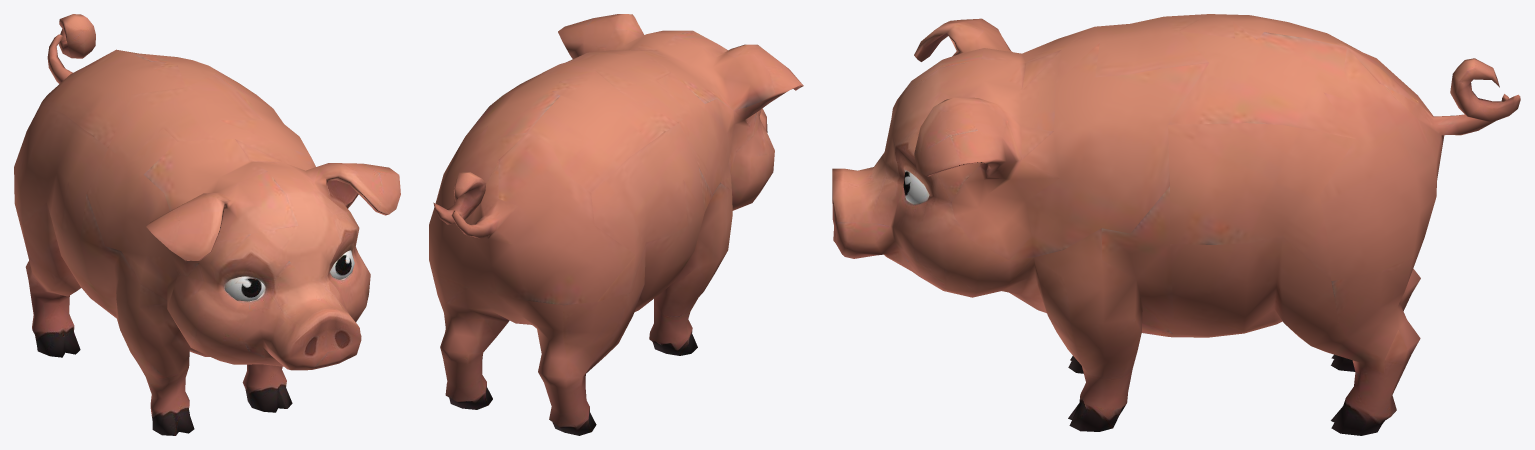
Rendered from cerdo.glb.
3 renders of one model, left to right at view 1: azimuth 30°, elevation 25°; view 2: azimuth 150°, elevation 25°; view 3: azimuth 270°, elevation 25°, orthographic. The views are drawn at different scales.
Bounding box in the file's own units: 0.4955 × 0.5862 × 1.
Materials: 1 (1 with a texture image).
